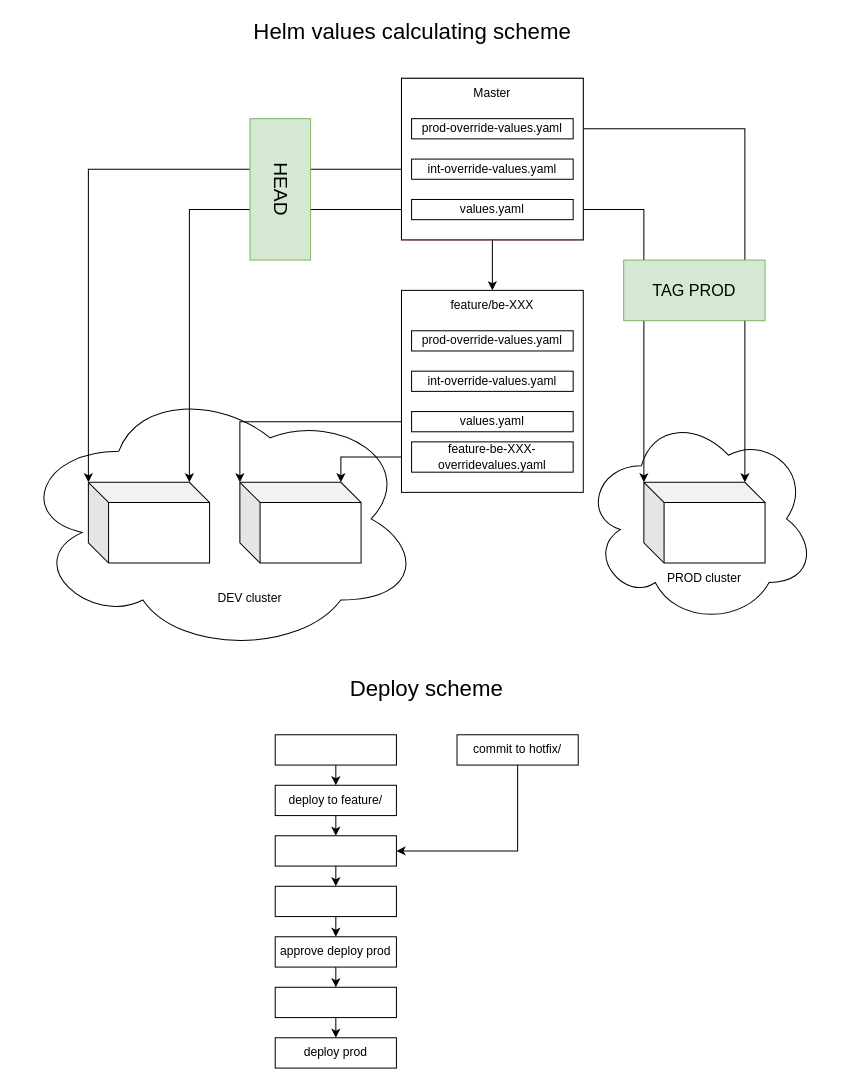
This 853x1086 diagram has some shape labels left out. Here are the shapes that lost their labels. From the top down, the box of each, then its label:
(87, 481, 210, 563): int namespace
(239, 481, 361, 563): feature-be-xxx namespace
(643, 481, 765, 563): prod namespace
(274, 734, 396, 765): commit to feature/
(274, 835, 396, 866): merge to master
(274, 885, 396, 917): deploy int
(274, 986, 396, 1018): move tag prod to current commit
